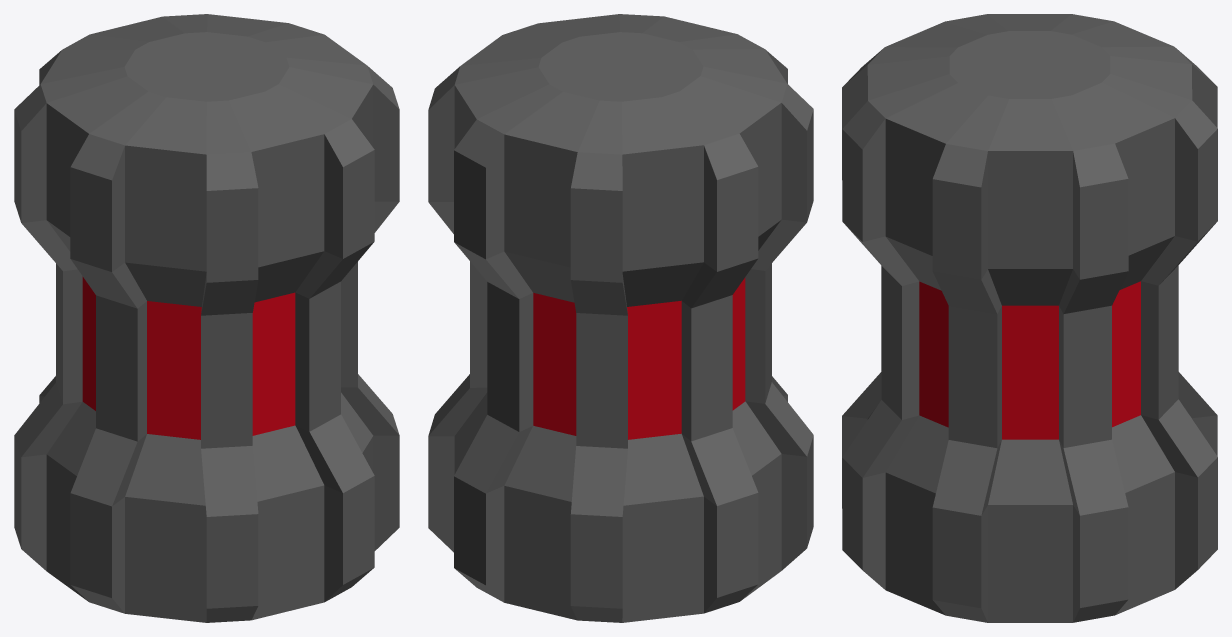
File: EnemyBase_Reactor.fbx
3 renders of one model, left to right at view 1: azimuth 30°, elevation 25°; view 2: azimuth 150°, elevation 25°; view 3: azimuth 270°, elevation 25°, orthographic.
Parts seen in each view (by area): view 1: Reactor; view 2: Reactor; view 3: Reactor.
Boxes of the visible parts, bbox=[...] form: Reactor: bbox=[14, 14, 399, 622]; Reactor: bbox=[428, 14, 813, 622]; Reactor: bbox=[842, 14, 1217, 622].
Size of the model in its own units: 214 by 319 by 214.
